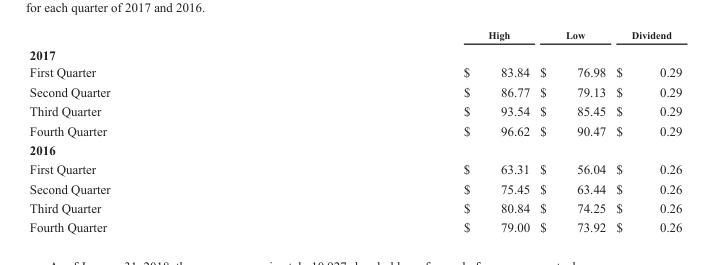table: (28, 28, 681, 234)
table column: (28, 28, 286, 234), (286, 28, 534, 234), (534, 28, 610, 234), (610, 28, 681, 234)
table column header: (28, 28, 681, 43)
table projected row header: (28, 43, 681, 63), (28, 139, 681, 159)
table row: (28, 43, 681, 63), (28, 81, 681, 101), (28, 139, 681, 159), (28, 178, 681, 198), (28, 101, 681, 120), (28, 120, 681, 139), (28, 159, 681, 178), (28, 198, 681, 217), (28, 63, 681, 81), (28, 217, 681, 234), (28, 28, 681, 43)
